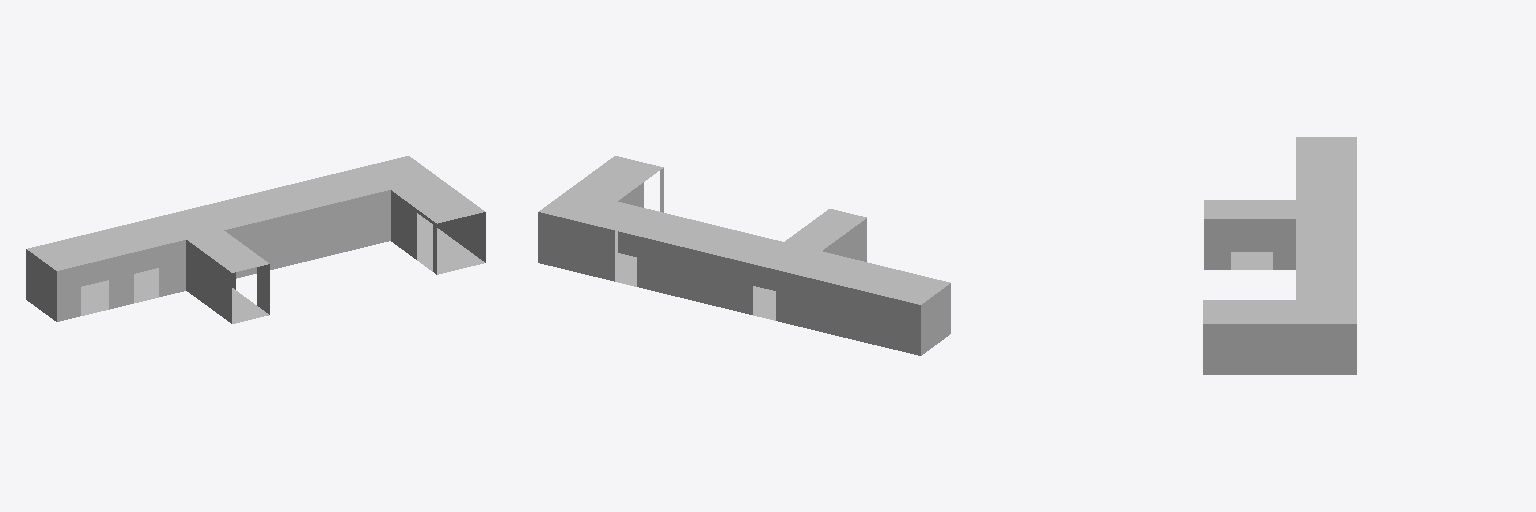
File: hall2.obj
3 views of the same model, side by side, from view 1: azimuth 30°, elevation 25°; view 2: azimuth 150°, elevation 25°; view 3: azimuth 270°, elevation 25° (orthographic).
Visible parts, largest first — view 1: hall2; view 2: hall2; view 3: hall2.
Part boxes in pixels (left/top/right/bottom): hall2: left=26, top=156, right=485, bottom=323; hall2: left=538, top=156, right=950, bottom=355; hall2: left=1203, top=137, right=1356, bottom=374.
Bounding box in the file's own units: 45.64 × 5.84 × 15.87.